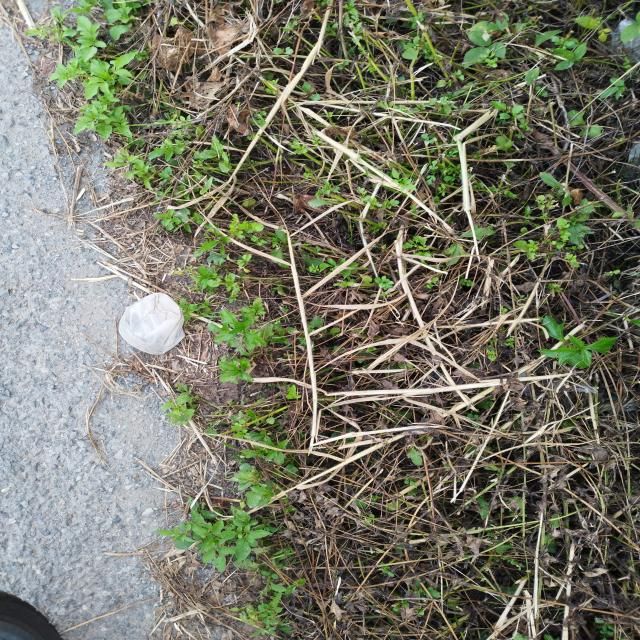bag: (119, 292, 186, 355)
